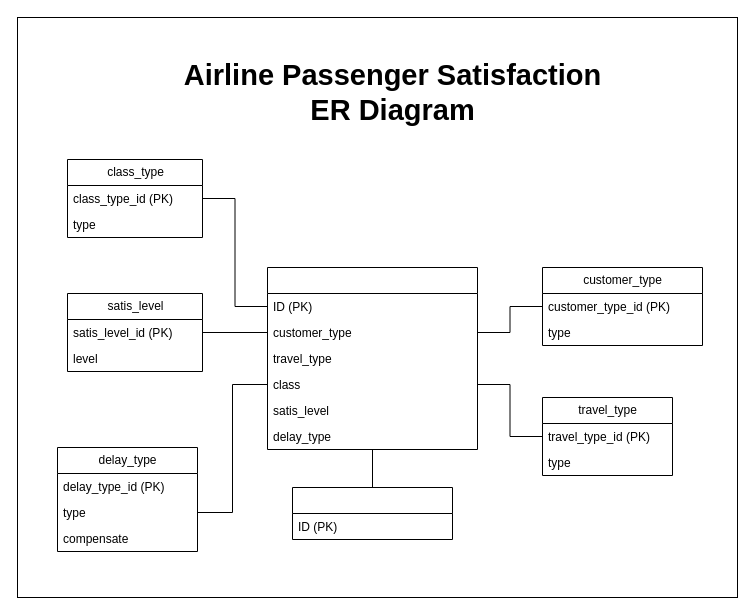
Some shapes in this 755 by 615 pixel diagram are drawn without their labels. Each missing label, with the box of its shape:
airline_comment: (292, 486, 452, 540)
airline_passenger_satisfaction: (266, 266, 478, 450)
